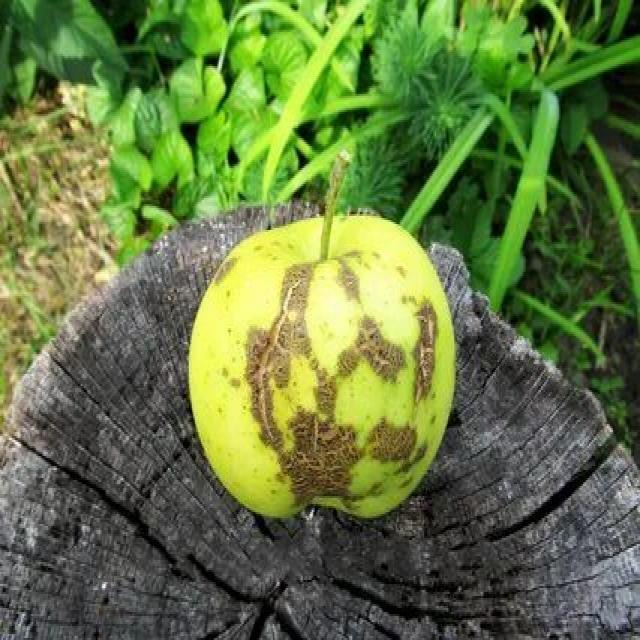Rotten: (216, 204, 456, 508)
